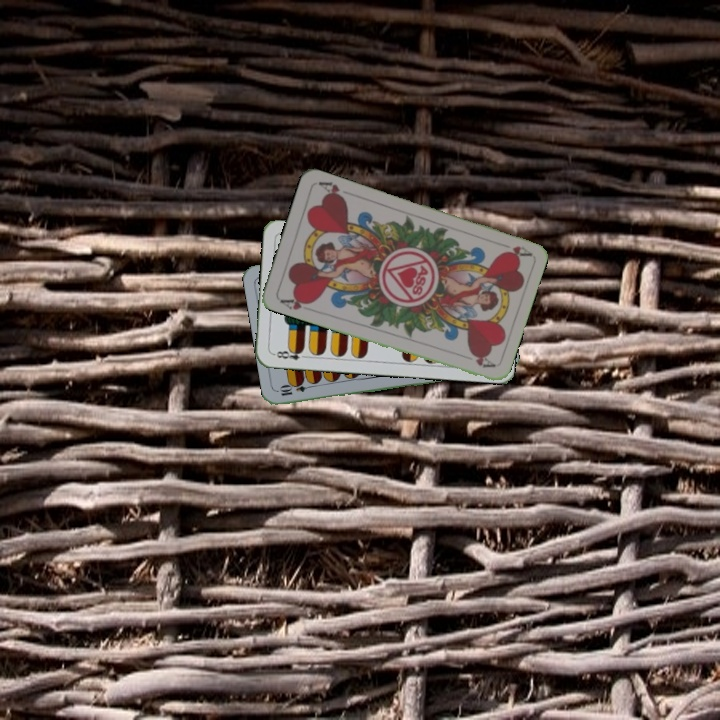E10: (276, 380, 316, 399)
E8: (270, 345, 310, 363)
HA: (493, 238, 532, 260), (276, 292, 316, 313)
